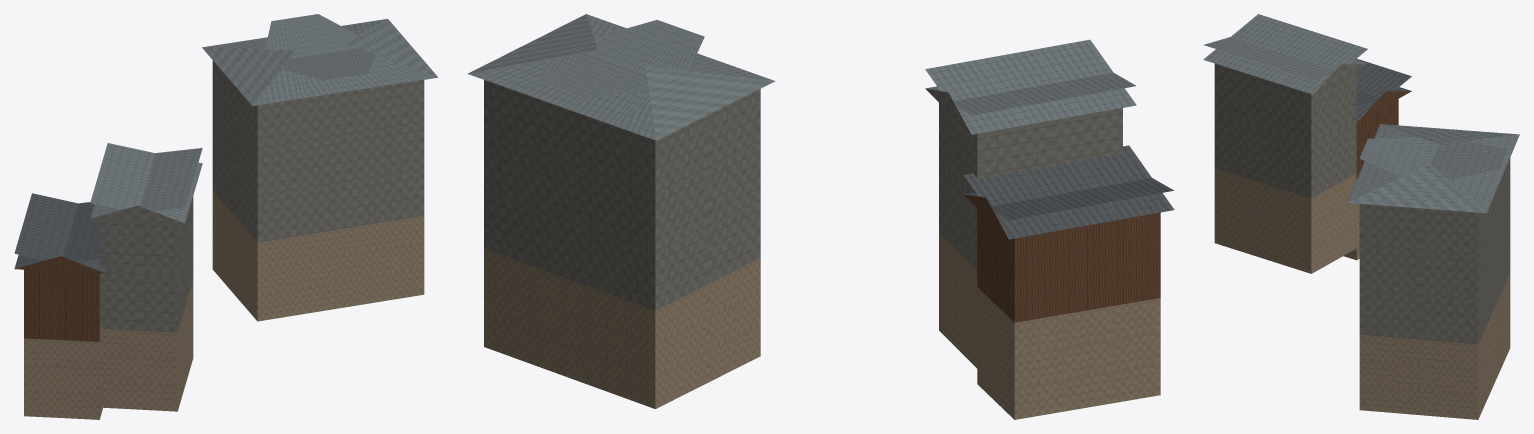
The model's file is bld_c31_-23_543.gltf.
3 views of the same model, side by side, from view 1: azimuth 30°, elevation 25°; view 2: azimuth 150°, elevation 25°; view 3: azimuth 270°, elevation 25° (orthographic). The views are drawn at different scales.
Parts seen in each view (by area): view 1: bld_c31_-23_543; view 2: bld_c31_-23_543; view 3: bld_c31_-23_543.
Boxes of the visible parts, box(x1,y1,x2,y2) form: bld_c31_-23_543: box(14, 14, 438, 419); bld_c31_-23_543: box(467, 14, 1174, 419); bld_c31_-23_543: box(1203, 14, 1519, 419).
Bounding box in the file's own units: 31.76 × 15.2 × 19.35.
Materials: 7 (7 with a texture image).
